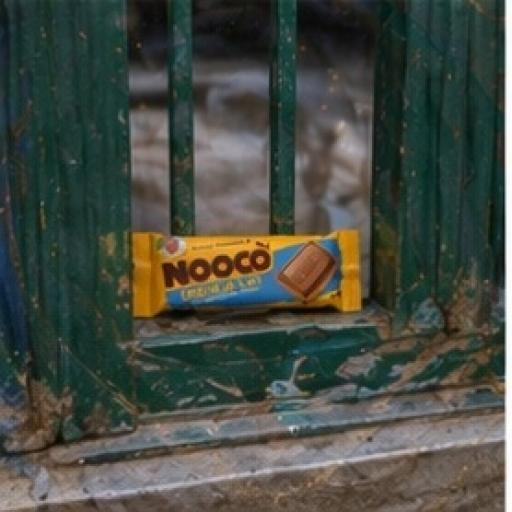biscuit-detection: (79, 166, 420, 377)
